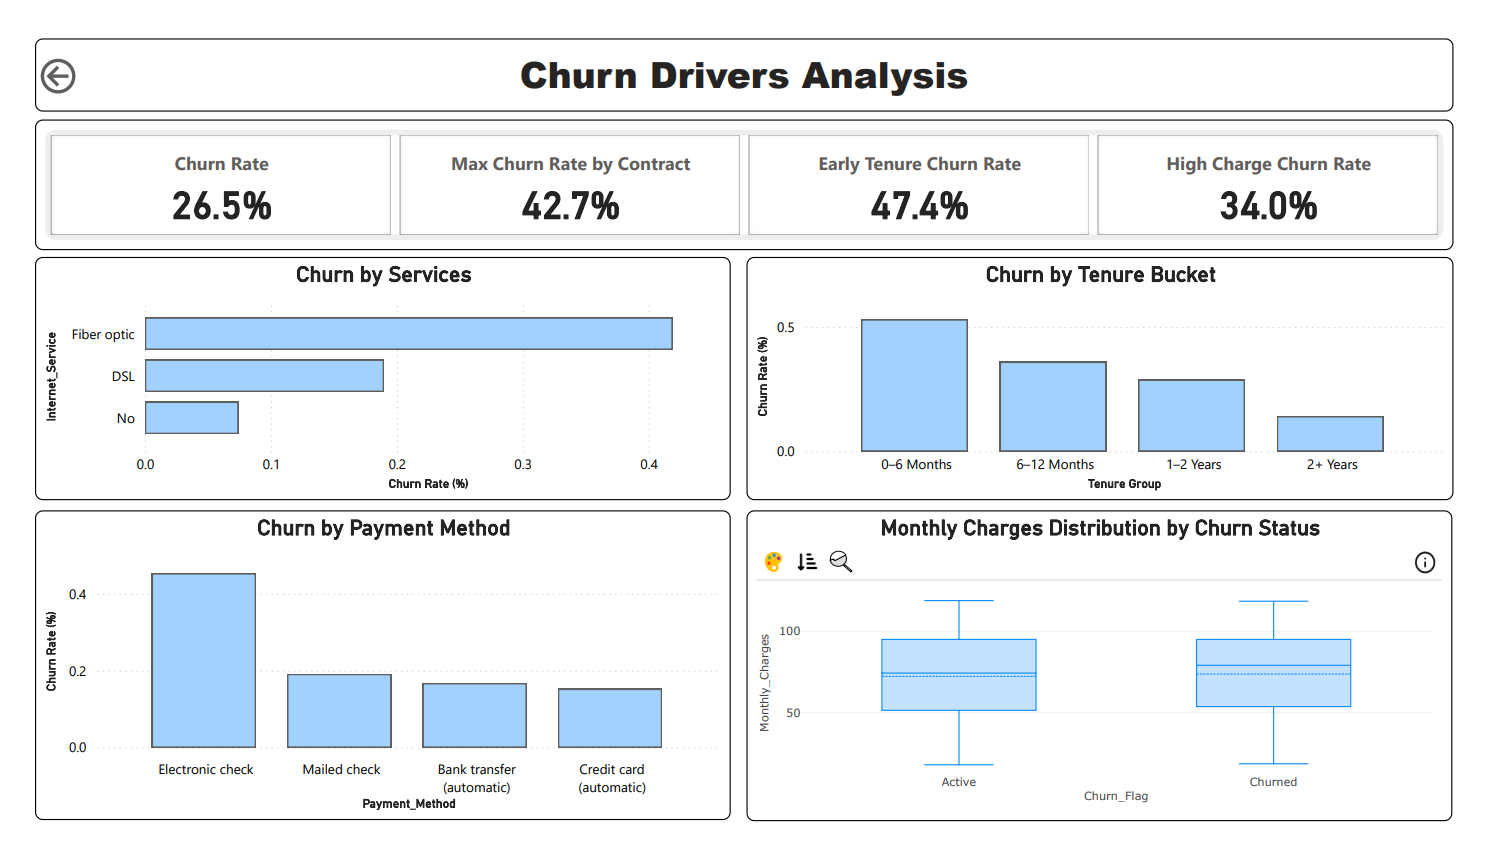

What the dashboard file says about the page in this screenshot:
{"tool":"powerbi","page":{"name":"Churn Drivers Analysis","canvas":[1280,720],"ordinal":1},"visuals":[{"type":"cardVisual","fields":{"Data":["telco_customer_db telco_customer_churn.Churn Rate (%)","telco_customer_db telco_customer_churn.Max Churn Rate by Contract","telco_customer_db telco_customer_churn.Early Tenure Churn Rate","telco_customer_db telco_customer_churn.High Charge Churn Rate"]},"box":[7.8,83.3,1260.1,115.6],"z":0},{"type":"clusteredBarChart","title":"Churn by Services","fields":{"Y":["telco_customer_db telco_customer_churn.Churn Rate (%)"],"Category":["telco_customer_db telco_customer_churn.Internet_Service"]},"box":[8.2,205.3,618,215.6],"z":1000},{"type":"columnChart","title":"Churn by Payment Method","fields":{"Y":["telco_customer_db telco_customer_churn.Churn Rate (%)"],"Category":["telco_customer_db telco_customer_churn.Payment_Method"]},"box":[8.2,430.2,618,275.1],"z":2000},{"type":"textbox","box":[7.8,10.8,1260.1,65.7],"z":3000},{"type":"columnChart","title":"Churn by Tenure Bucket","fields":{"Category":["telco_customer_db telco_customer_churn.Tenure Group"],"Y":["telco_customer_db telco_customer_churn.Churn Rate (%)"]},"box":[639.6,205.3,628.3,215.6],"z":4000},{"type":"boxandwhiskerwithpoints3B3DF5C11B683E5DB4E630DD7899B035","title":"Monthly Charges Distribution by Churn Status","fields":{"col_0":["telco_customer_db telco_customer_churn.Churn_Flag"],"col_2":["telco_customer_db telco_customer_churn.Monthly_Charges"]},"box":[639.5,430.2,627.9,275.6],"z":5000},{"type":"actionButton","box":[7.8,24.5,79.4,40.2],"z":6000}]}

Visuals, with their boxes in screenshot pixels (x1, y1, x2, y2), scaled from the page's 1280x720 canvas onto the 1492x860 screenshot:
cardVisual - telco_customer_db telco_customer_churn.Churn Rate (%) x telco_customer_db telco_customer_churn.Max Churn Rate by Contract: pyautogui.locateOnScreen(9, 99, 1478, 238)
"Churn by Services" clusteredBarChart: pyautogui.locateOnScreen(10, 245, 730, 503)
"Churn by Payment Method" columnChart: pyautogui.locateOnScreen(10, 514, 730, 842)
textbox: pyautogui.locateOnScreen(9, 13, 1478, 91)
"Churn by Tenure Bucket" columnChart: pyautogui.locateOnScreen(746, 245, 1478, 503)
"Monthly Charges Distribution by Churn Status" boxandwhiskerwithpoints3B3DF5C11B683E5DB4E630DD7899B035: pyautogui.locateOnScreen(745, 514, 1477, 843)
actionButton: pyautogui.locateOnScreen(9, 29, 102, 77)
